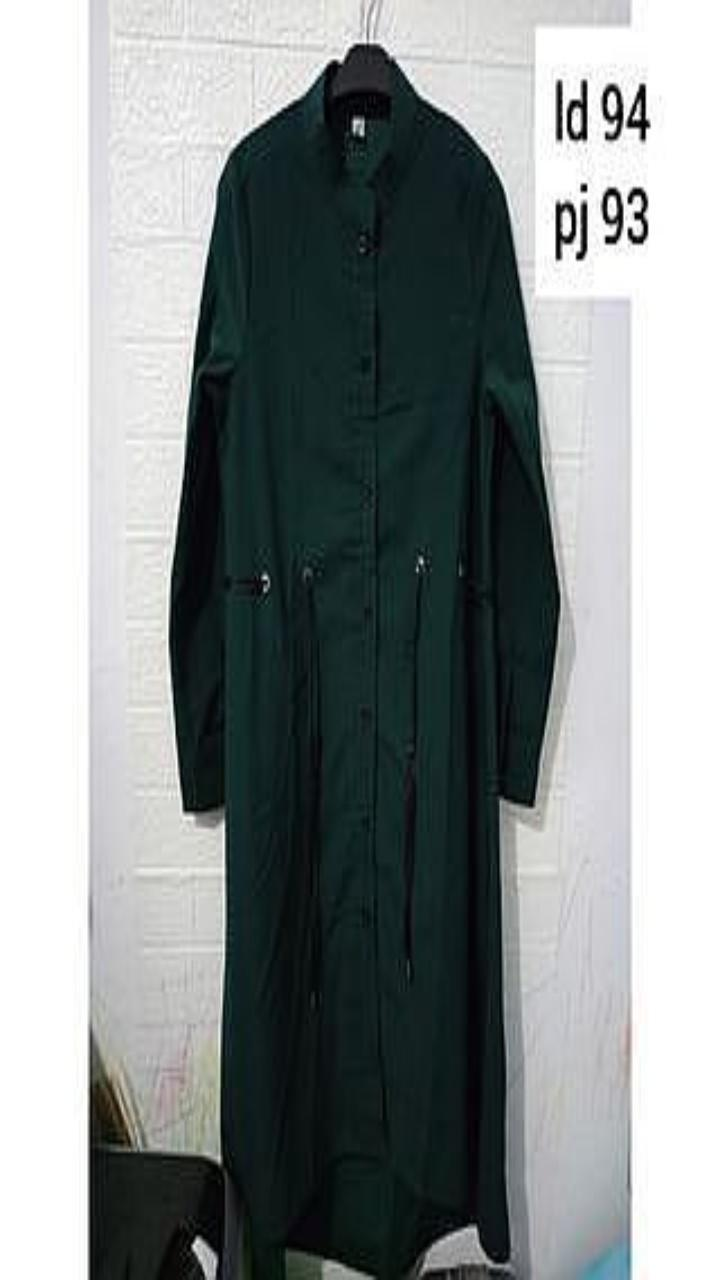Coat: (169, 59, 558, 1276)
